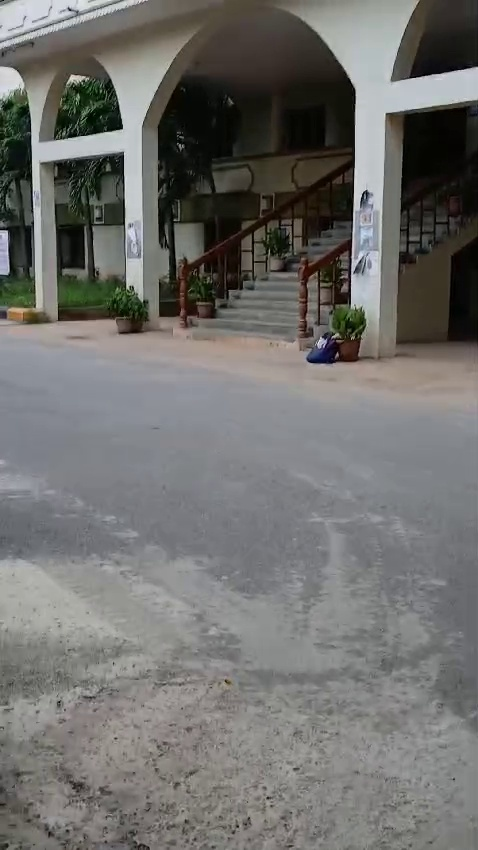bag: (308, 319, 333, 363)
